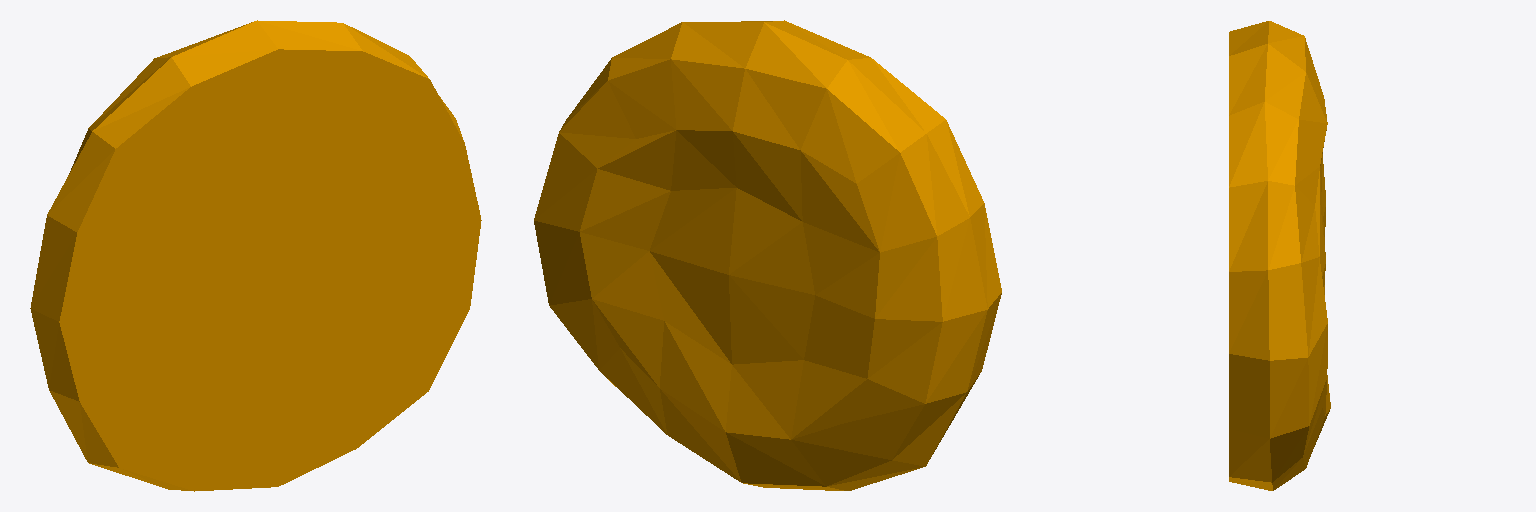
URDF robot description (cookie):
<?xml version="1.0"?>
<robot name="cookie">
  <link name="cookie_link">
    <inertial>
      <origin xyz="0 0 0" rpy="0 0 0"/>
      <mass value="0.05"/>
      <inertia ixx="0.0001" ixy="0" ixz="0" iyy="0.0001" iyz="0" izz="0.0001"/>
    </inertial>
    <visual>
      <origin xyz="0 0 0" rpy="0 0 0"/>
      <geometry>
        <mesh filename="cookie.obj" scale="1.0 1.0 1.0"/>
      </geometry>
      <material name="cookie_texture">
        <texture filename="cookie.png"/>
      </material>
    </visual>
    <collision>
      <origin xyz="0 0 0" rpy="0 0 0"/>
      <geometry>
        <mesh filename="cookie.obj" scale="1.0 1.0 1.0"/>
      </geometry>
    </collision>
  </link>
</robot> 

--- Render facts (derived) ---
Views: 3 orthographic renders of the robot side by side, from view 1: azimuth 30°, elevation 25°; view 2: azimuth 150°, elevation 25°; view 3: azimuth 270°, elevation 25°.
Robot: cookie — 1 links, 0 joints (none); root link cookie_link; default pose: all joints at 0.
Links seen in each view (by area): view 1: cookie_link; view 2: cookie_link; view 3: cookie_link.
Boxes of the visible links, left/top/right/bottom form: cookie_link: left=30, top=20, right=481, bottom=491; cookie_link: left=534, top=20, right=1001, bottom=490; cookie_link: left=1229, top=21, right=1330, bottom=490.
Bounding box of the posed robot: 1.97 × 0.4185 × 1.97 m (x, y, z).
1 mesh visuals loaded from 1 distinct referenced files (1 OBJ).
